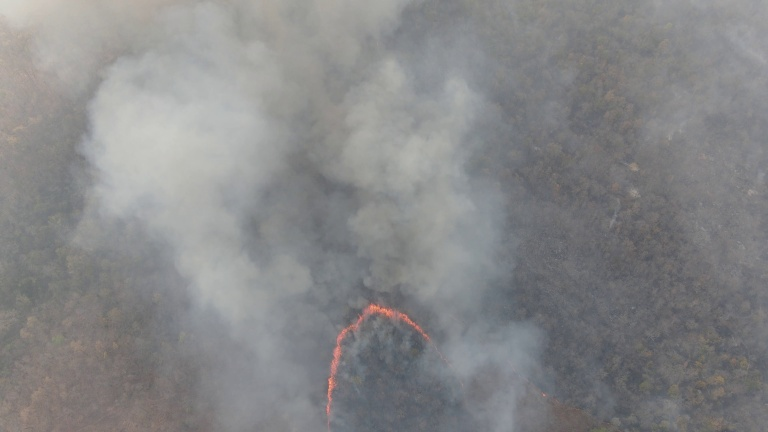fire: (320, 297, 446, 426)
smoke: (90, 54, 334, 427), (341, 74, 538, 352)
